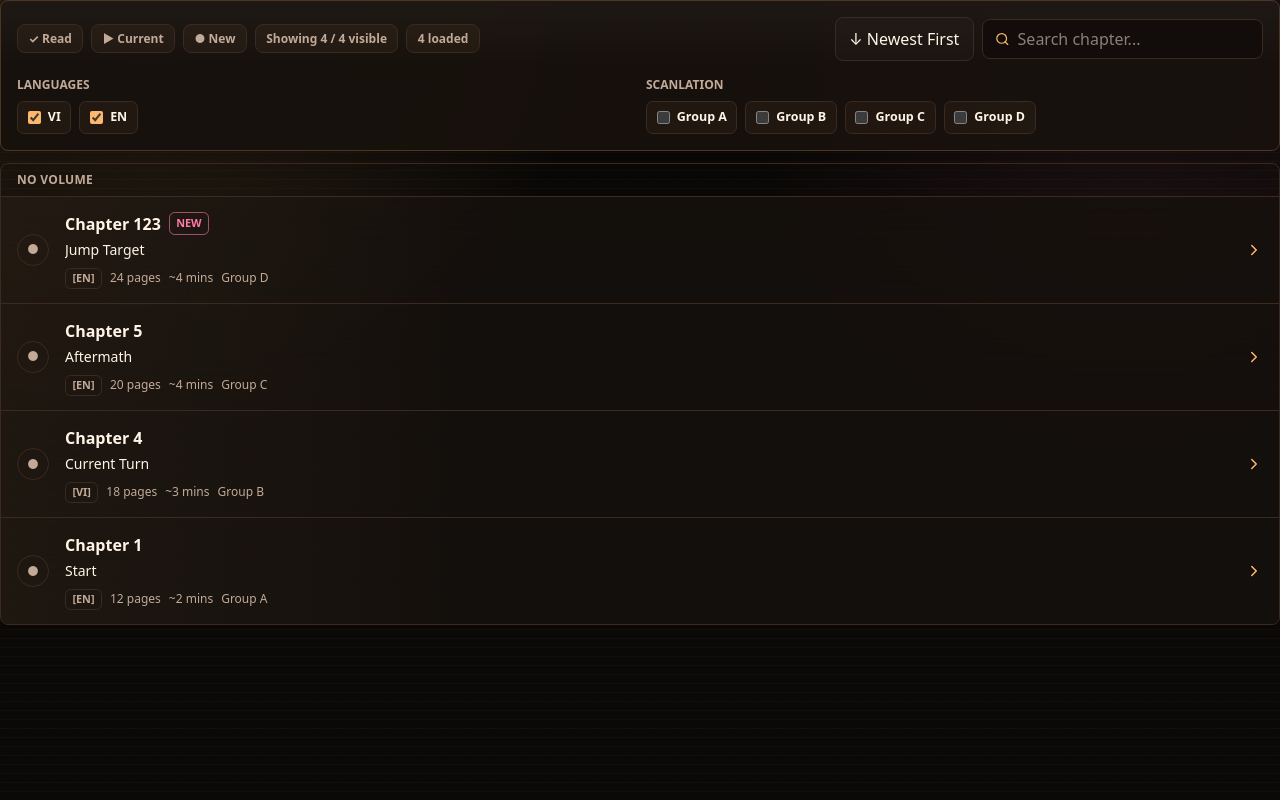
Scenario: ChapterList › filters by scanlation group and clears filters
Click the checkbox labelled "Group B" at [763, 117], box [756,111,769,124]
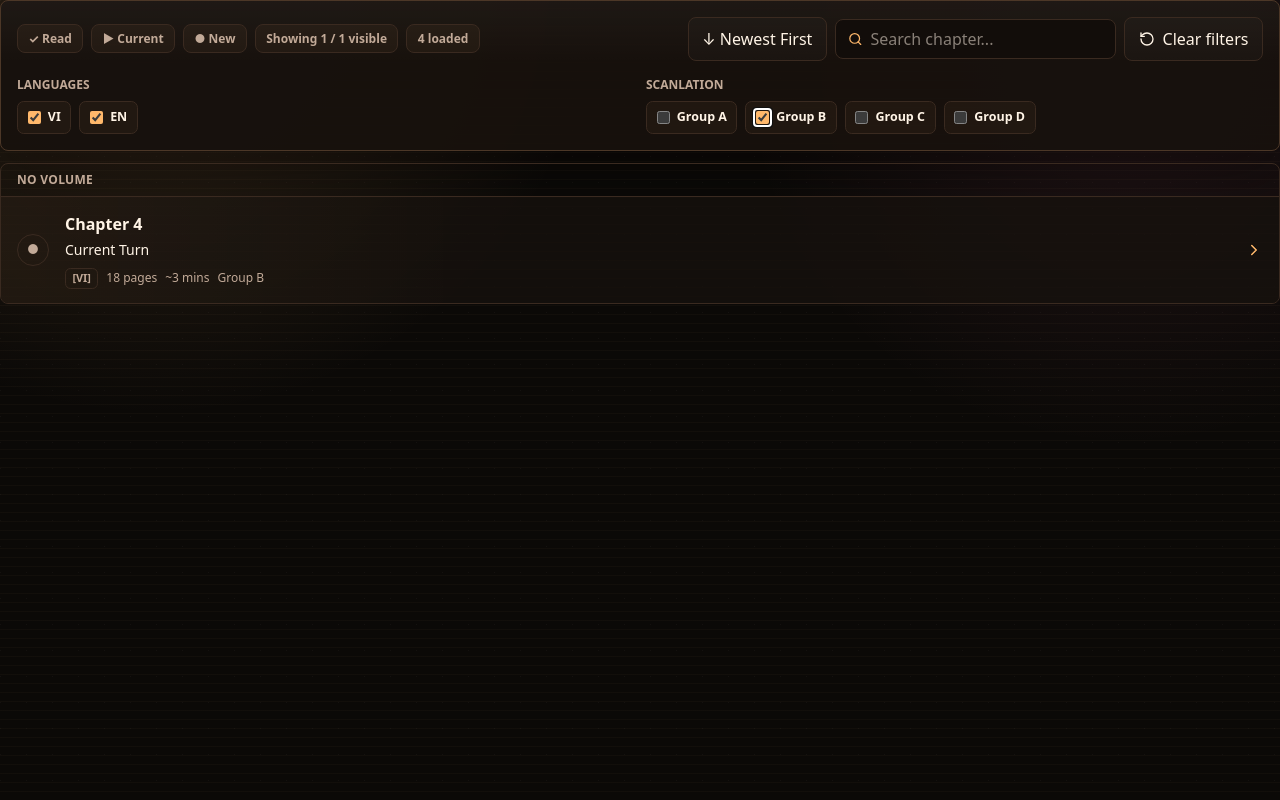
Expected: the text "Chapter 4" is shown, [65,212,142,236]
Now the link "Chapter 1" is gone
Click the button "Clear filters" at [1194, 39], box [1124,17,1263,61]
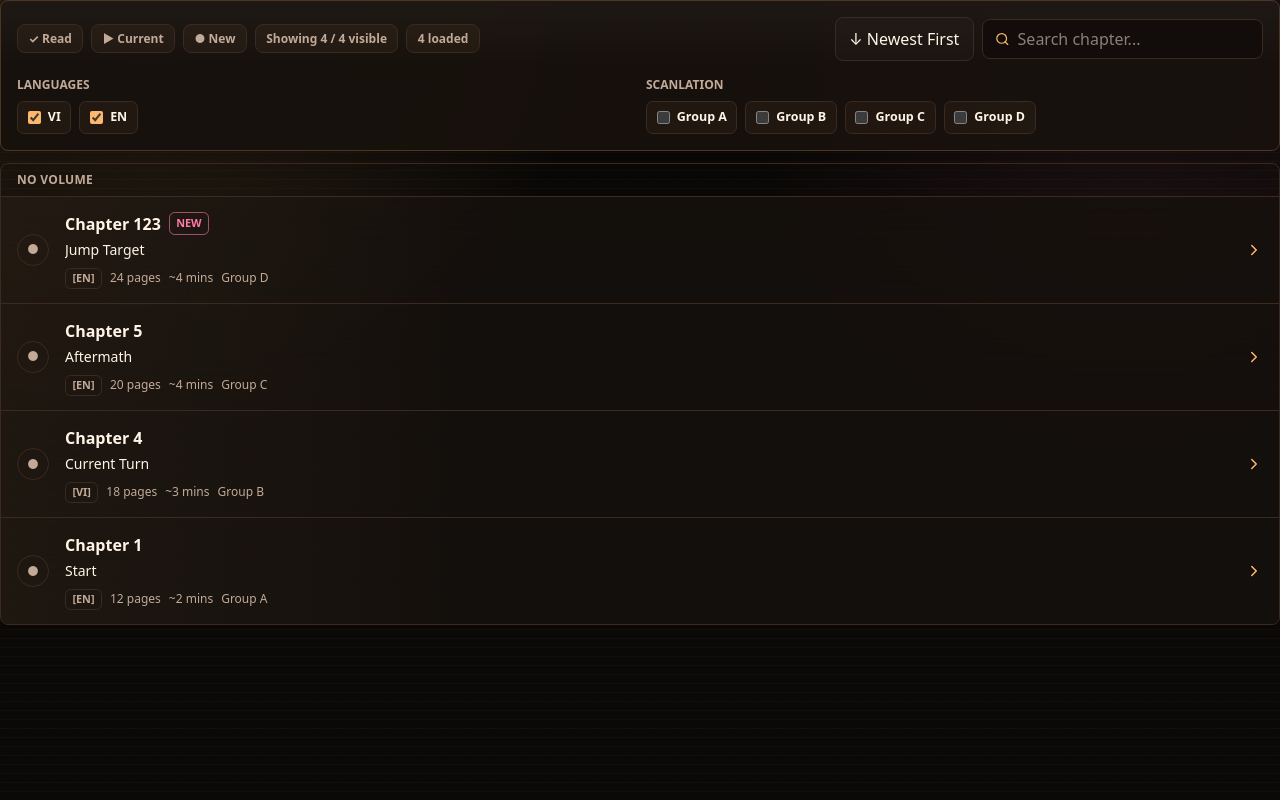
Now the text "Chapter 1" is shown, box [65,533,142,557]
